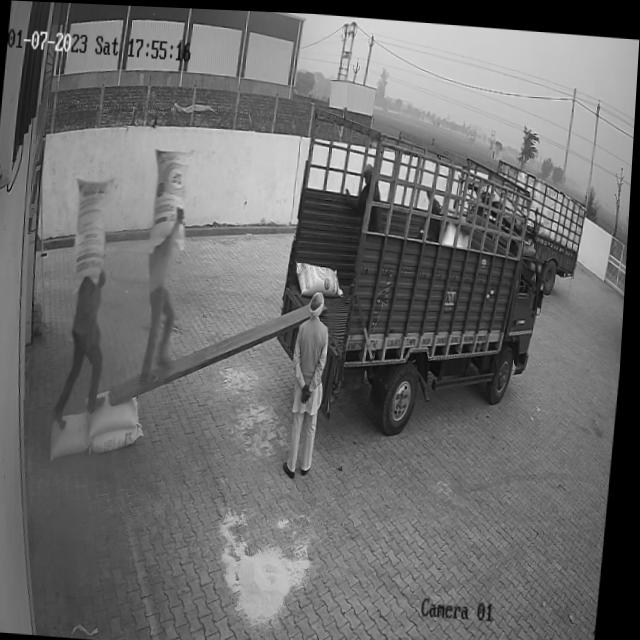sack: (70, 173, 115, 292), (150, 143, 194, 253), (93, 387, 145, 438), (52, 408, 96, 461), (296, 257, 348, 297), (96, 419, 148, 454)
